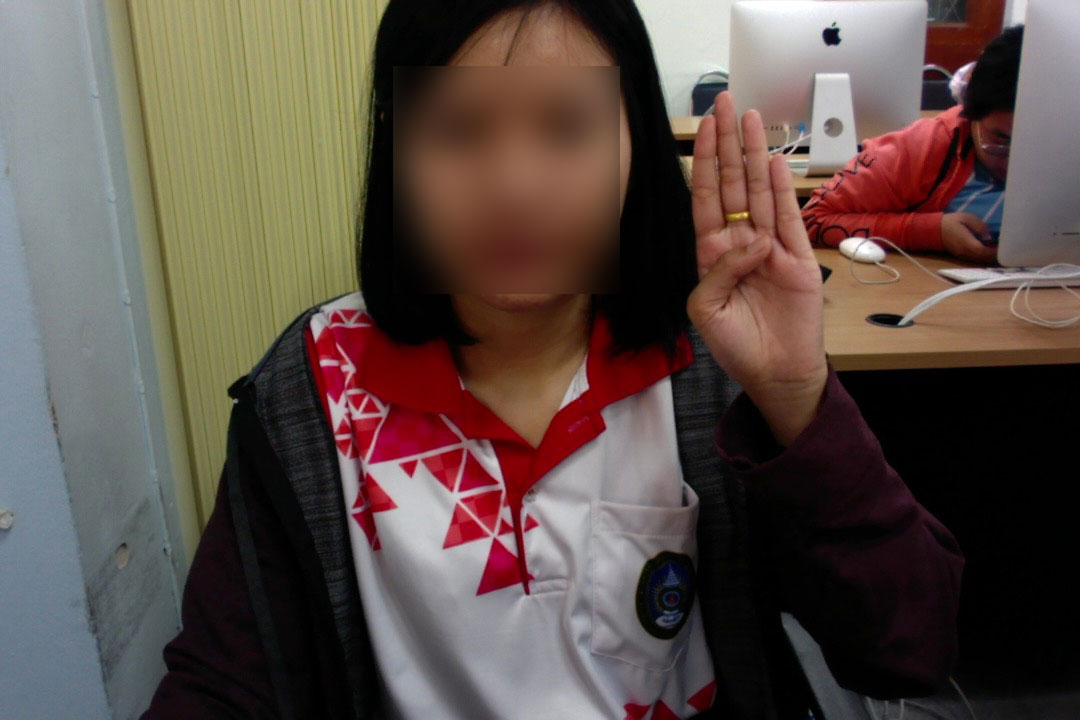bor: (682, 81, 835, 410)
